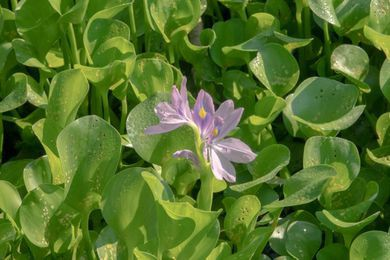water_hyacinth: (1, 1, 389, 259)
